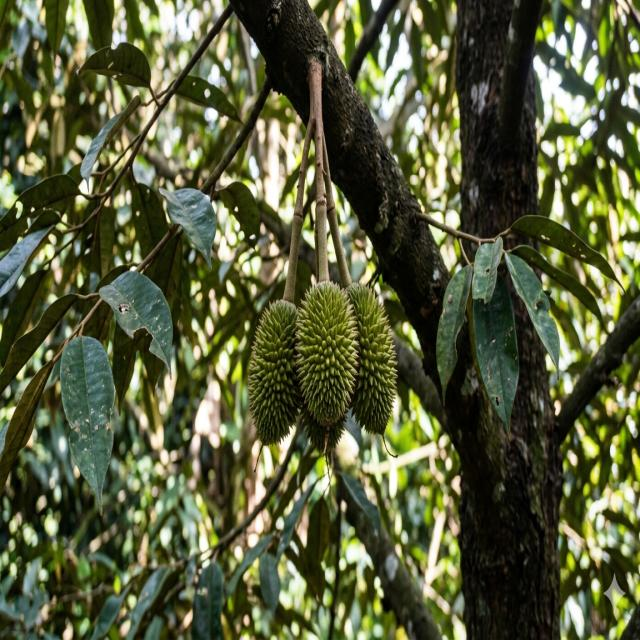immature: (294, 277, 359, 436), (343, 279, 398, 437), (246, 298, 302, 450), (344, 280, 381, 330)
